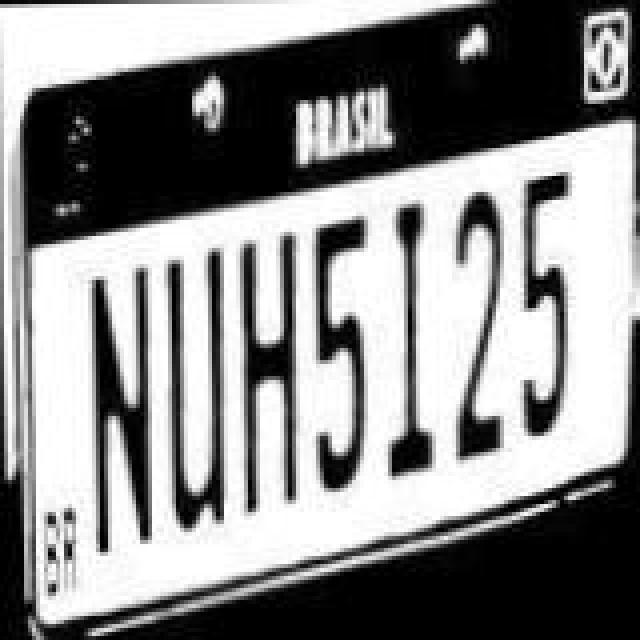2: (444, 170, 520, 454)
5: (310, 196, 382, 480), (520, 154, 588, 422)
H: (236, 214, 312, 502)
I: (380, 180, 448, 468)
N: (90, 254, 166, 562)
U: (162, 230, 238, 530)
